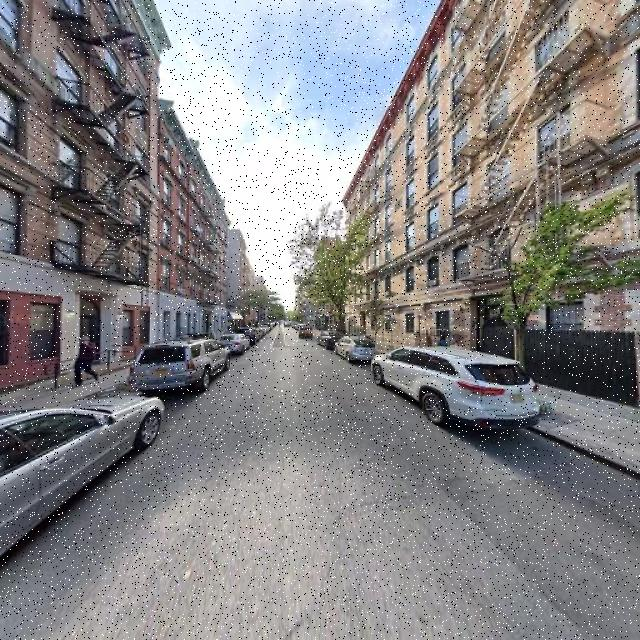Building: (348, 1, 640, 409), (1, 1, 162, 388)
